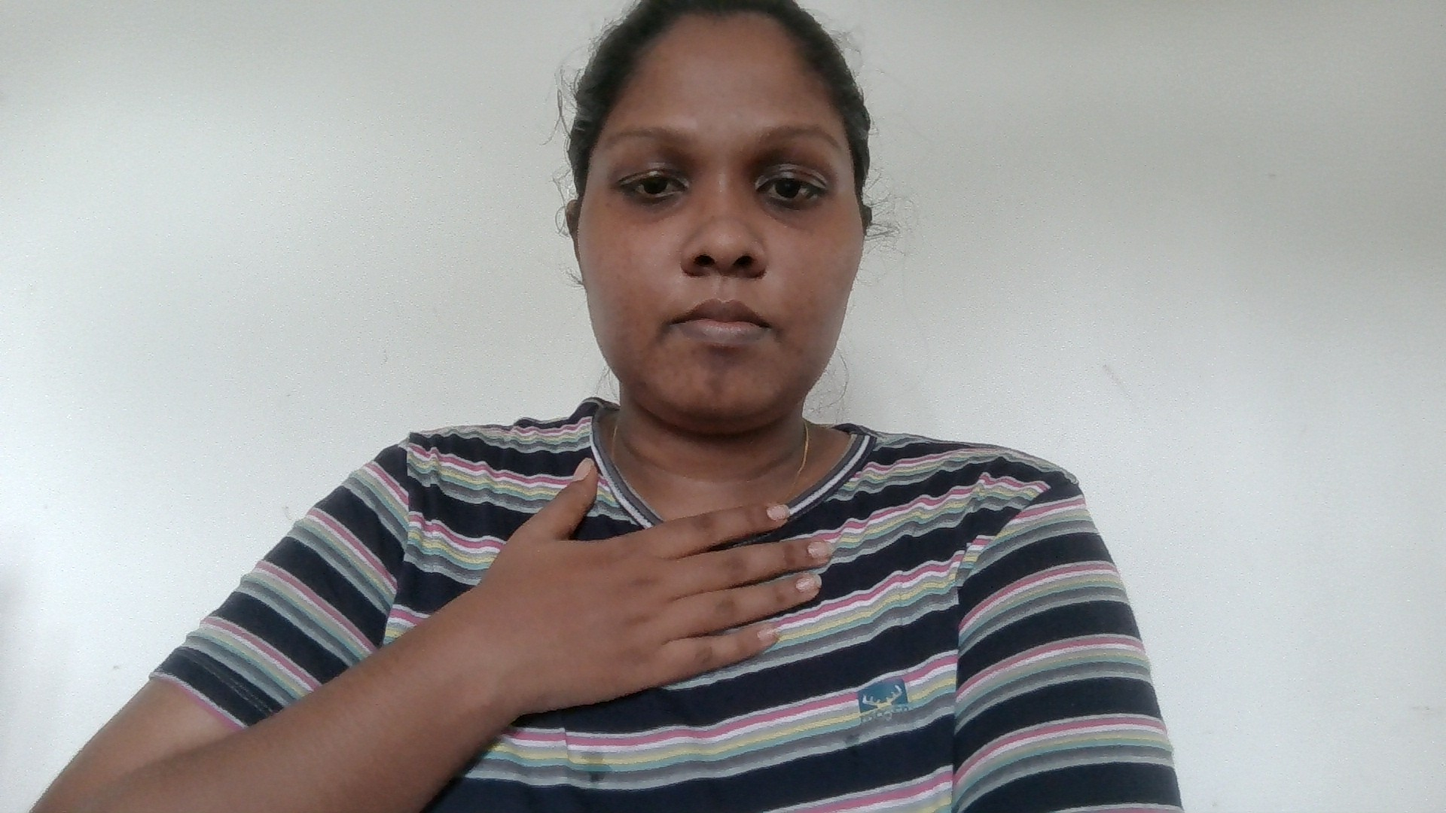Please: (490, 452, 871, 722)
